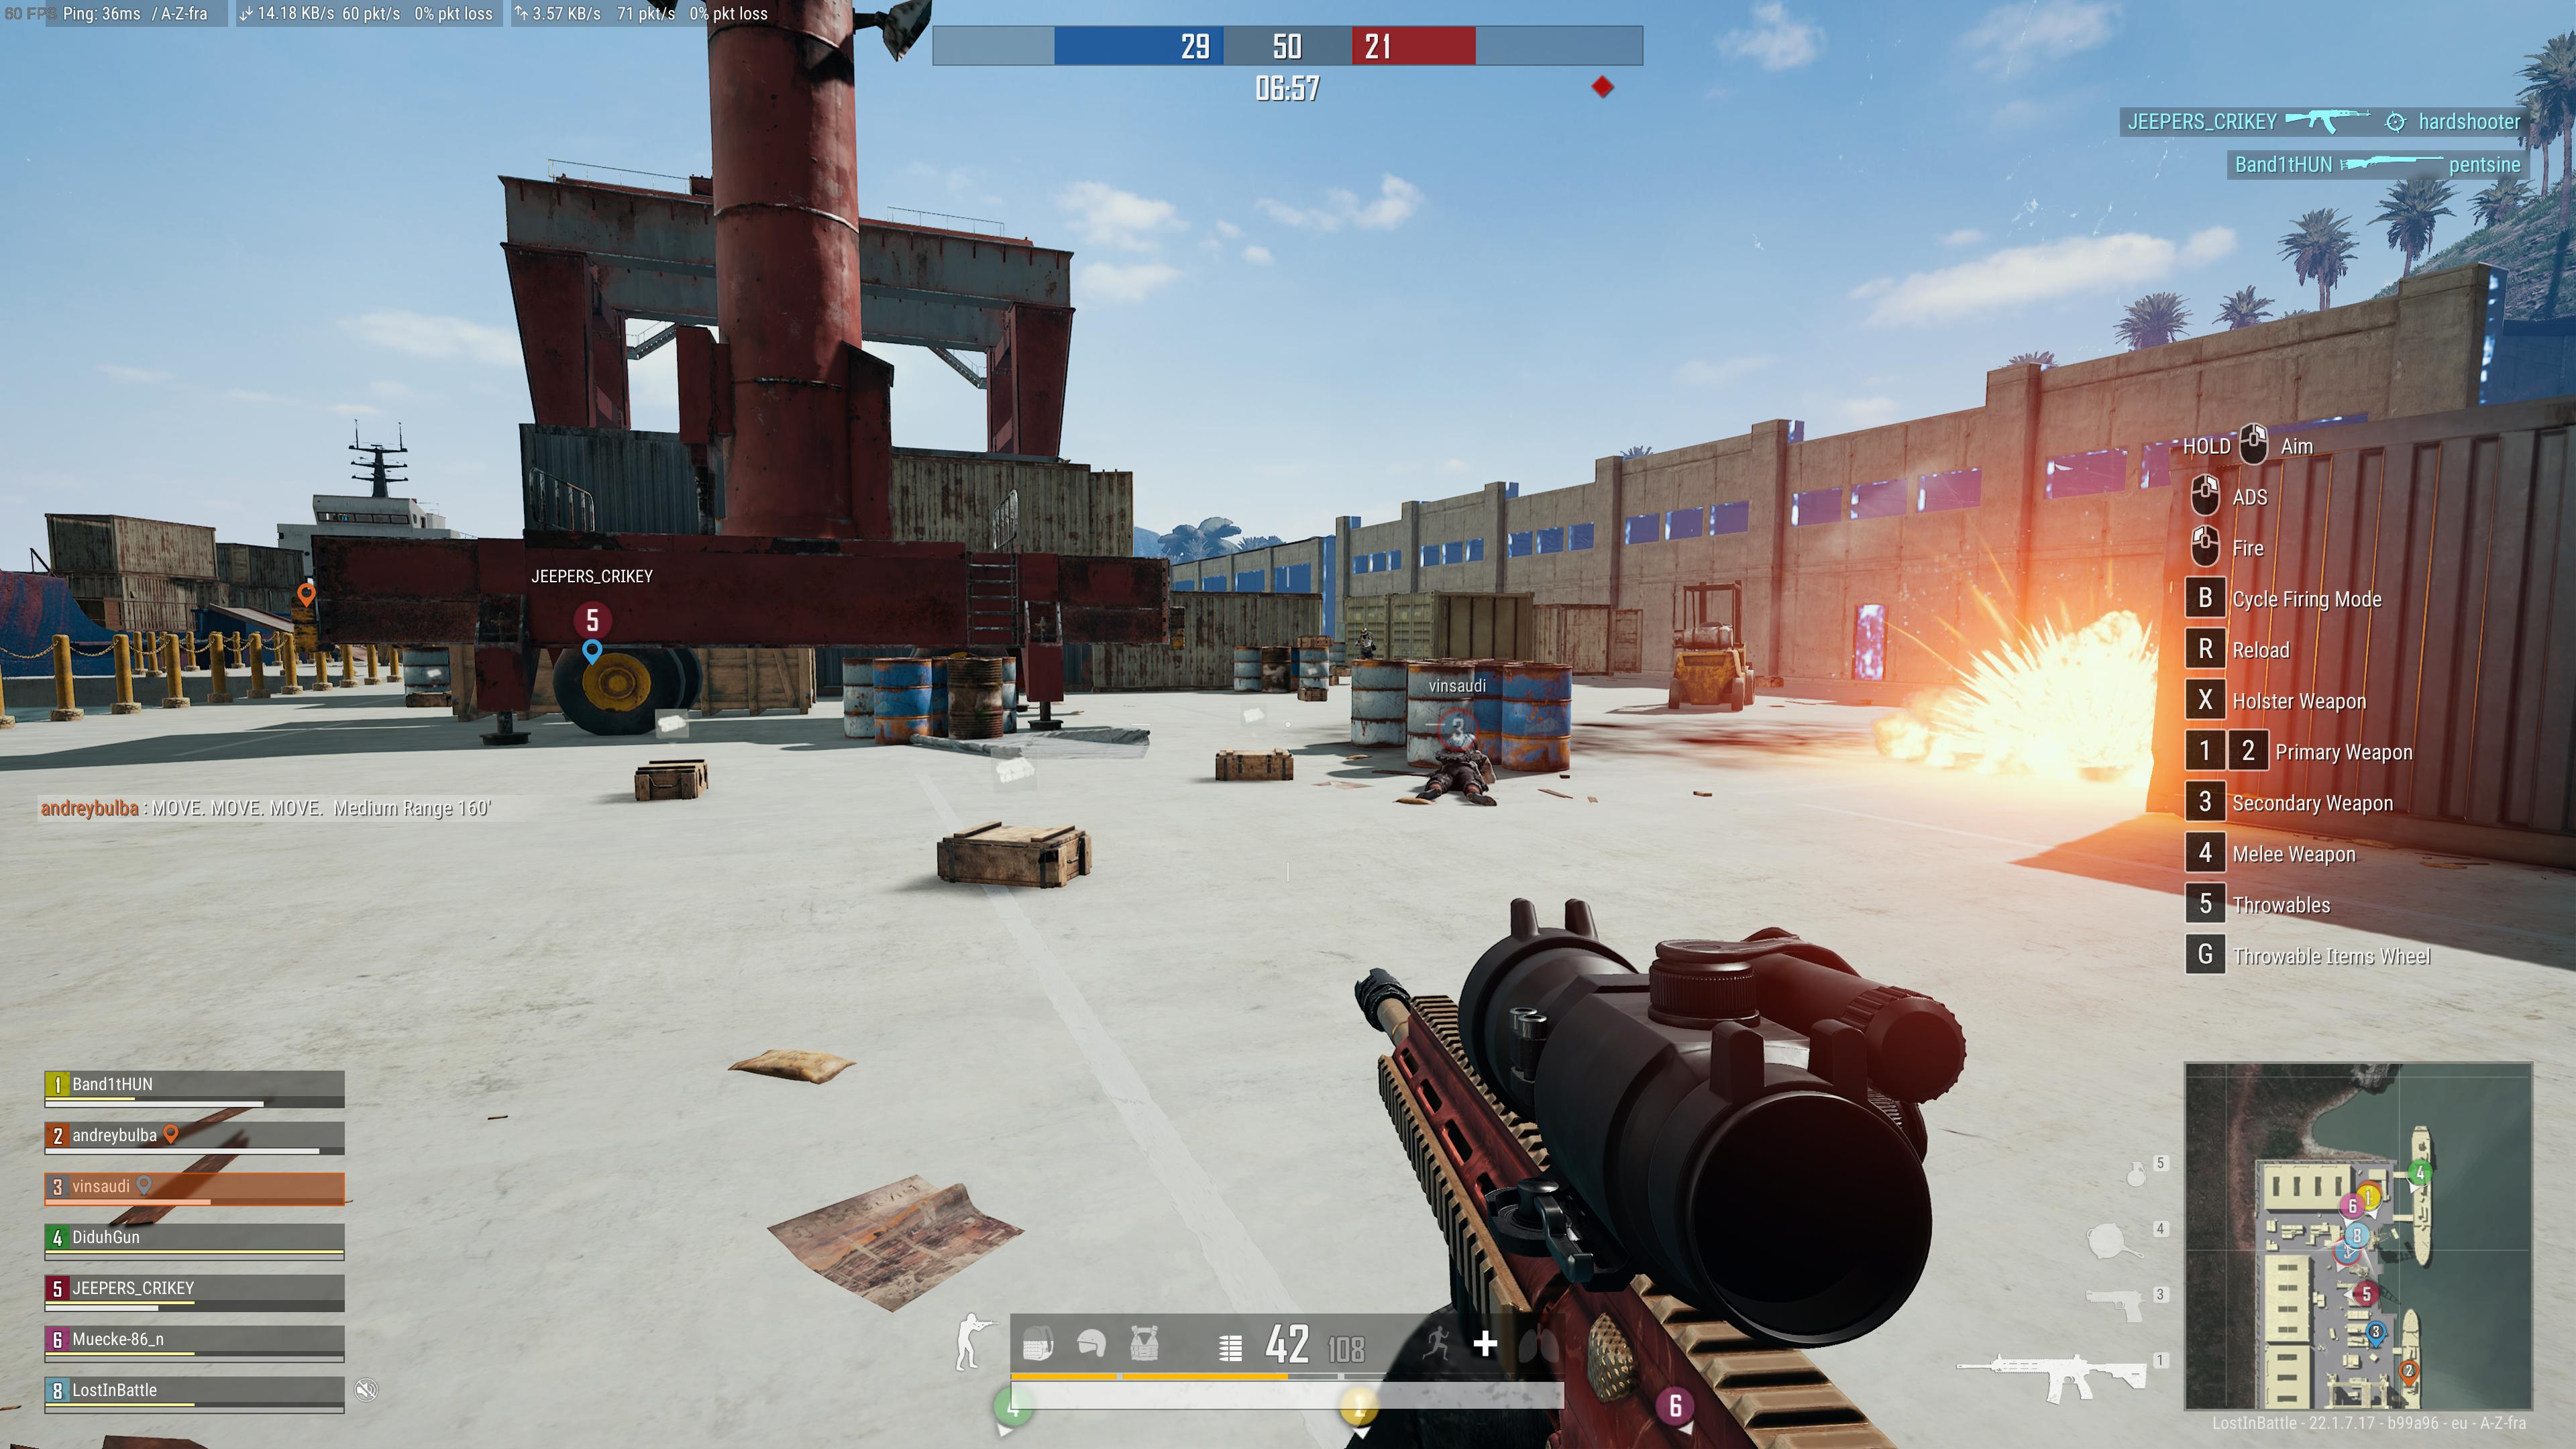enemy: (1353, 626, 1376, 658)
enemy_head: (1359, 626, 1368, 639)
friendly: (1422, 720, 1497, 803)
